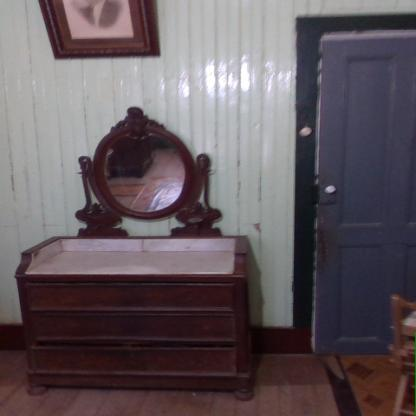closed: (280, 3, 416, 370)
